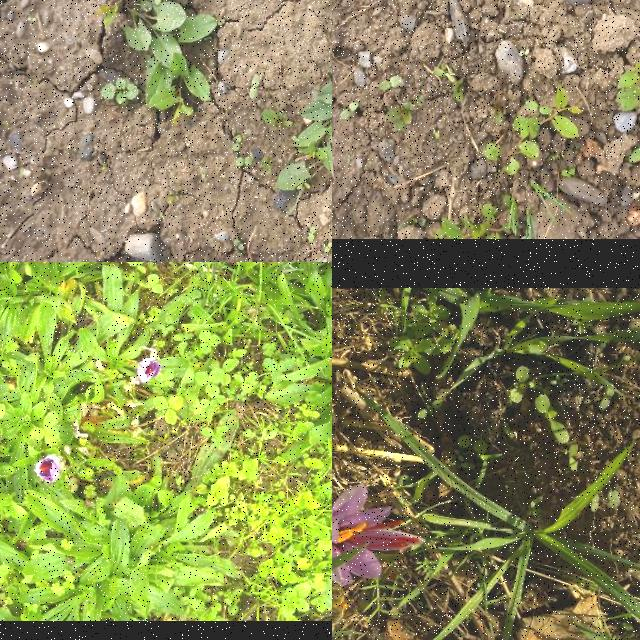flower: (332, 484, 426, 588), (34, 454, 62, 484), (136, 358, 162, 384)
